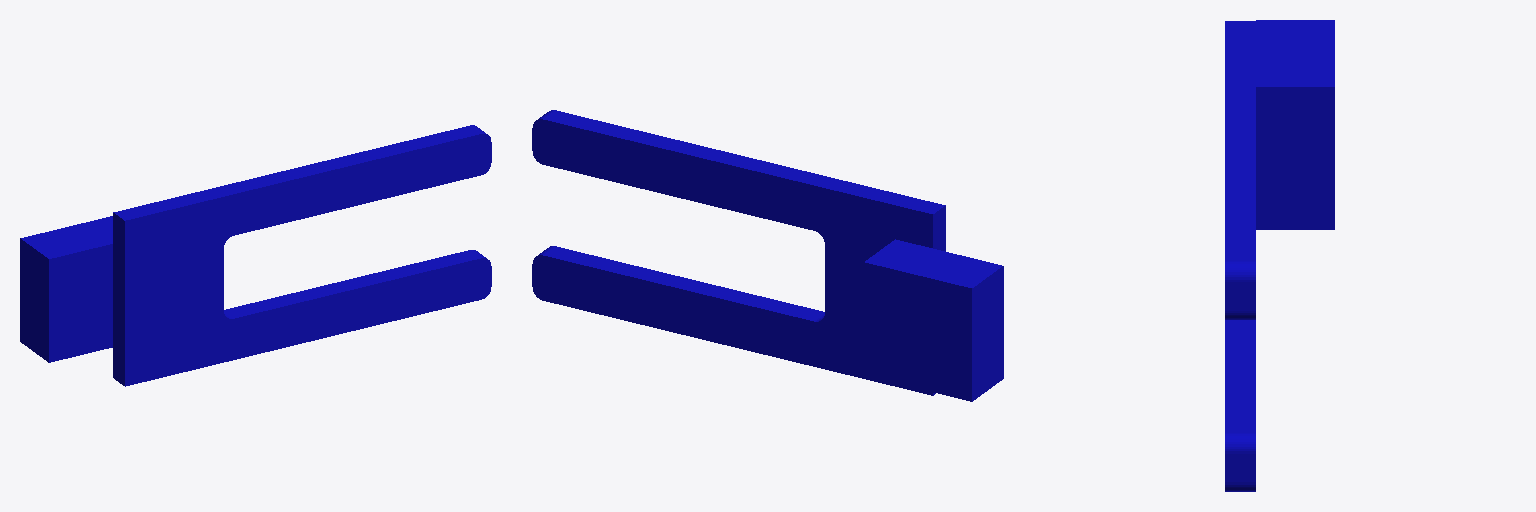
robot.urdf — custom_object:
<?xml version="1.0"?>
<robot name="custom_object">
    <link name="base_link">
        <visual>
            <geometry>
                <mesh filename="meshes/Part1.DAE" scale="0.001 0.001 0.001"/>
            </geometry>
            <material name="blue">
                <color rgba="0.1 0.1 0.8 1"/>
            </material>
        </visual>
        <collision>
            <geometry>
                <mesh filename="meshes/Part1.DAE" scale="0.001 0.001 0.001"/>
            </geometry>
        </collision>
        <inertial>
            <mass value="1.0"/>
            <origin xyz="0 0 0" rpy="0 0 0"/>
            <inertia ixx="0.1" ixy="0.0" ixz="0.0" iyy="0.1" iyz="0.0" izz="0.1"/>
        </inertial>
    </link>
</robot>

--- Render facts (derived) ---
3 views of the same robot in one strip: view 1: azimuth 30°, elevation 25°; view 2: azimuth 150°, elevation 25°; view 3: azimuth 270°, elevation 25° (orthographic).
Model custom_object with 1 links and 0 joints (none), rooted at base_link, posed every joint at zero.
Links seen in each view (by area): view 1: base_link; view 2: base_link; view 3: base_link.
Boxes of the visible links, x1,y1,x2,y2 form: base_link: [20, 125, 491, 386]; base_link: [532, 110, 1003, 401]; base_link: [1225, 20, 1334, 491].
Size in the robot's own frame: 0.2175 by 0.035 by 0.08 metres.
Meshes: 1 distinct files referenced, 1 mesh visuals loaded (1 Collada DAE).